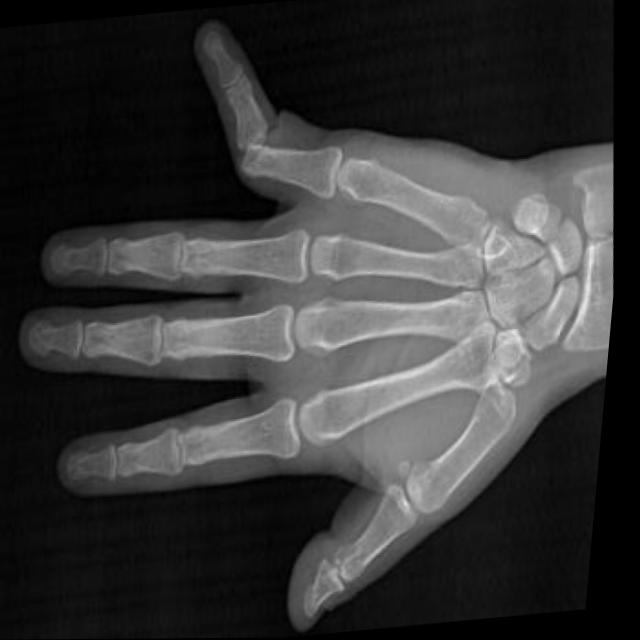fracture: (226, 108, 286, 188)
